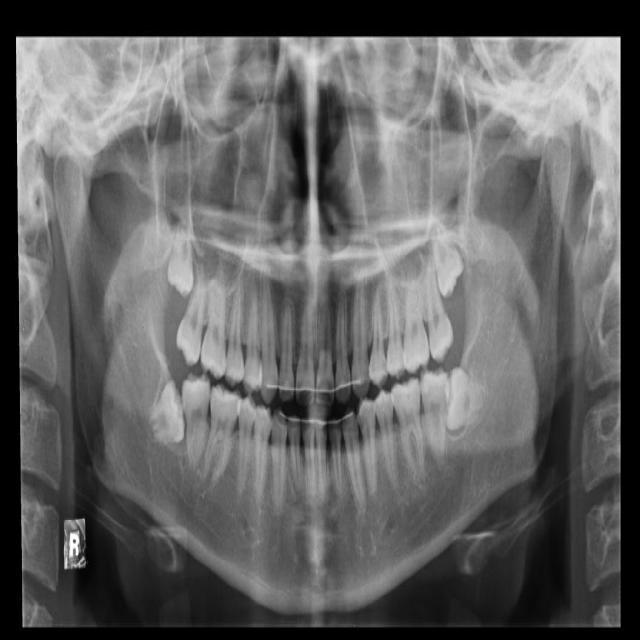3M ESPE Implant: (165, 199, 195, 301)
73: (612, 610, 620, 614)
BioHorizons Implant: (420, 247, 456, 367)
BioLife Implant: (428, 220, 469, 302)
Biomet 3i Implant: (443, 366, 487, 431)
Blue Sky Bio Implant: (420, 365, 451, 470)
Caries: (173, 256, 211, 368)
Implant: (182, 370, 212, 469)
Keystone Dental Implant: (148, 378, 185, 443)
